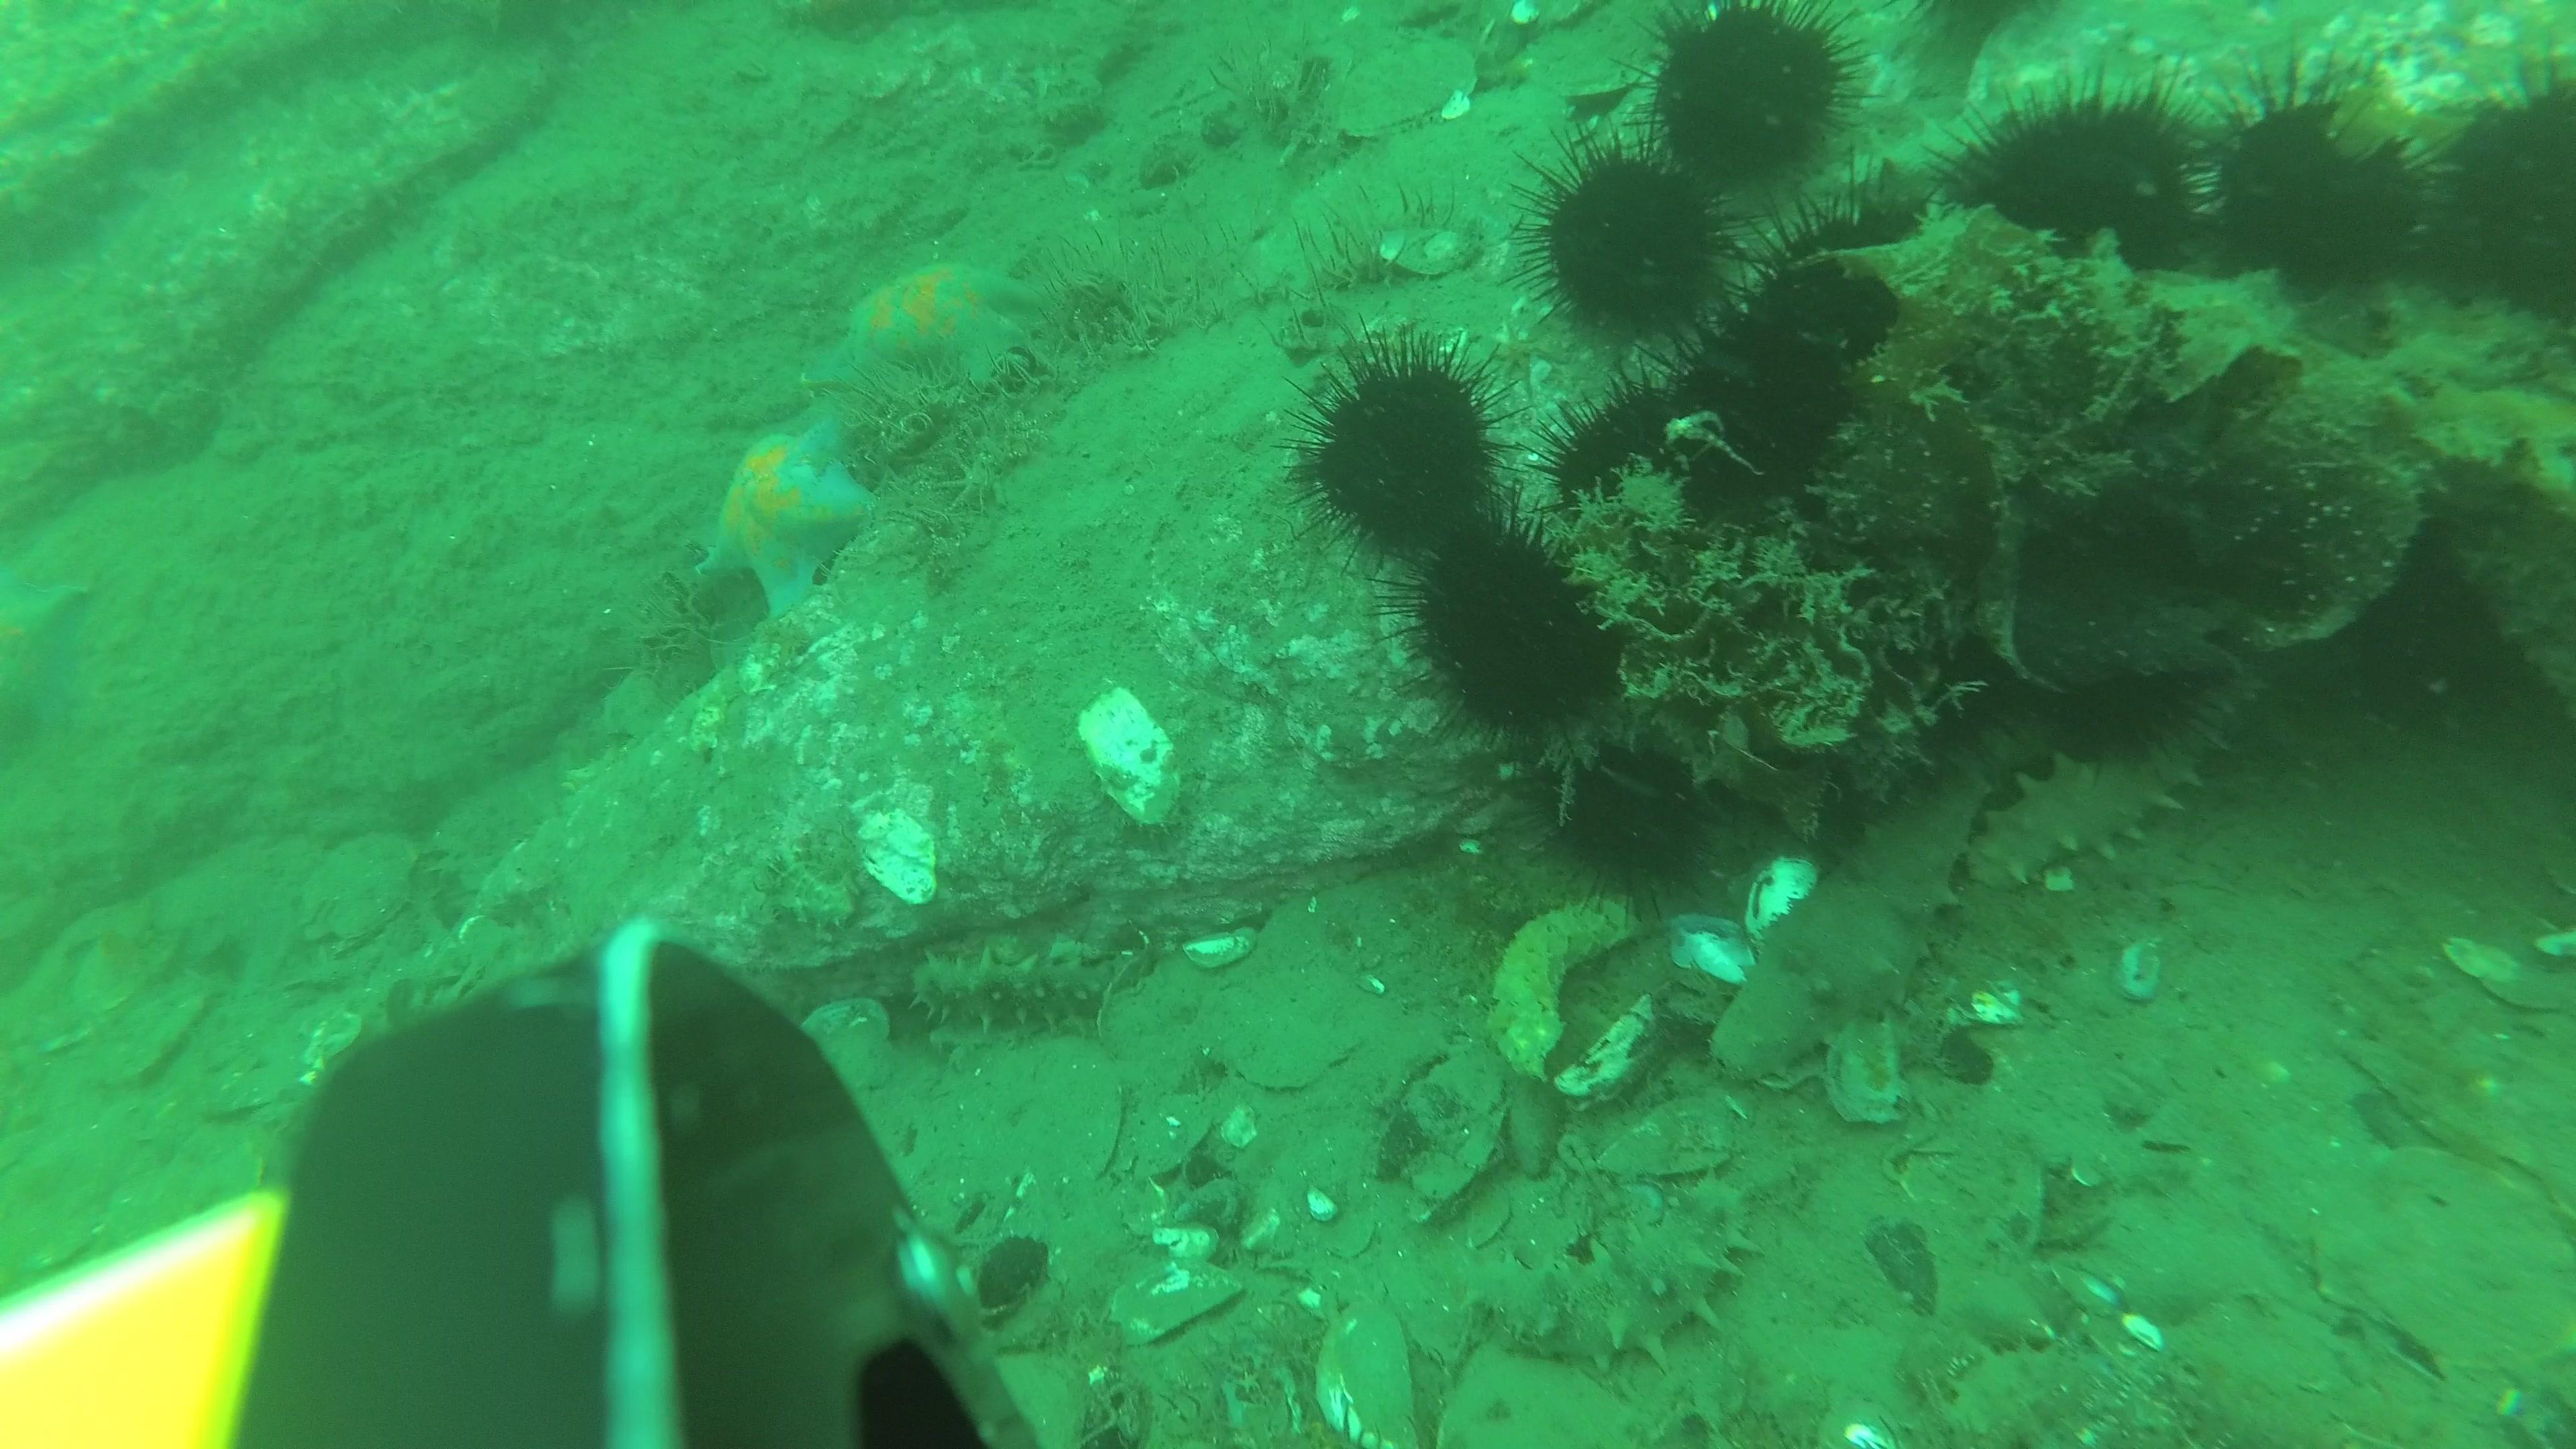echinus: (1932, 71, 2219, 297), (1286, 320, 1529, 580), (2204, 62, 2454, 311), (1507, 122, 1755, 366), (1399, 506, 1629, 755), (1629, 0, 1886, 207), (1743, 170, 1966, 400), (1534, 715, 1736, 920), (1672, 294, 1863, 506), (2434, 60, 2576, 340), (2365, 518, 2548, 731), (2026, 582, 2215, 771), (1555, 366, 1729, 563), (1845, 563, 2024, 752)
holothurian: (1707, 747, 1992, 1092), (1971, 639, 2284, 890), (1458, 1177, 1759, 1380), (1806, 74, 2250, 205), (1948, 1332, 2189, 1449), (911, 941, 1159, 1039)
scallop: (2321, 1146, 2576, 1382), (101, 1129, 265, 1279), (294, 828, 418, 961), (1338, 39, 1484, 143)
starfish: (702, 419, 874, 632), (801, 258, 1046, 402), (0, 561, 97, 763)
